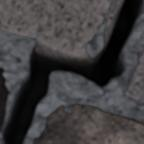brick: (0, 0, 110, 55), (33, 105, 143, 143), (124, 50, 143, 103), (0, 69, 8, 130), (105, 14, 111, 27)
crack: (2, 0, 143, 143)
